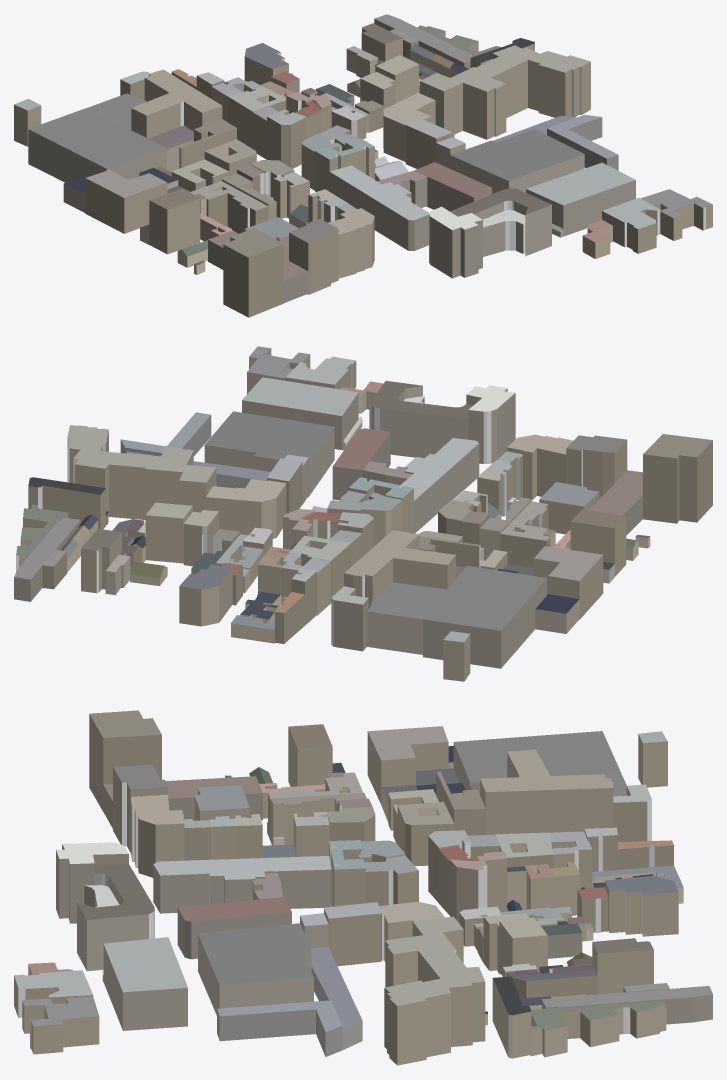
The picture shows the model from 3 angles, top to bottom: view 1: azimuth 30°, elevation 25°; view 2: azimuth 150°, elevation 25°; view 3: azimuth 270°, elevation 25°; orthographic projection. The views are drawn at different scales.
Visible parts, largest first — view 1: tuile; view 2: tuile; view 3: tuile.
Boxes of the visible parts, box(x1,y1,x2,y2) form: tuile: box(14, 14, 712, 317); tuile: box(14, 346, 712, 681); tuile: box(14, 710, 712, 1065).
Bounding box in the file's own units: 281 × 34.85 × 280.
